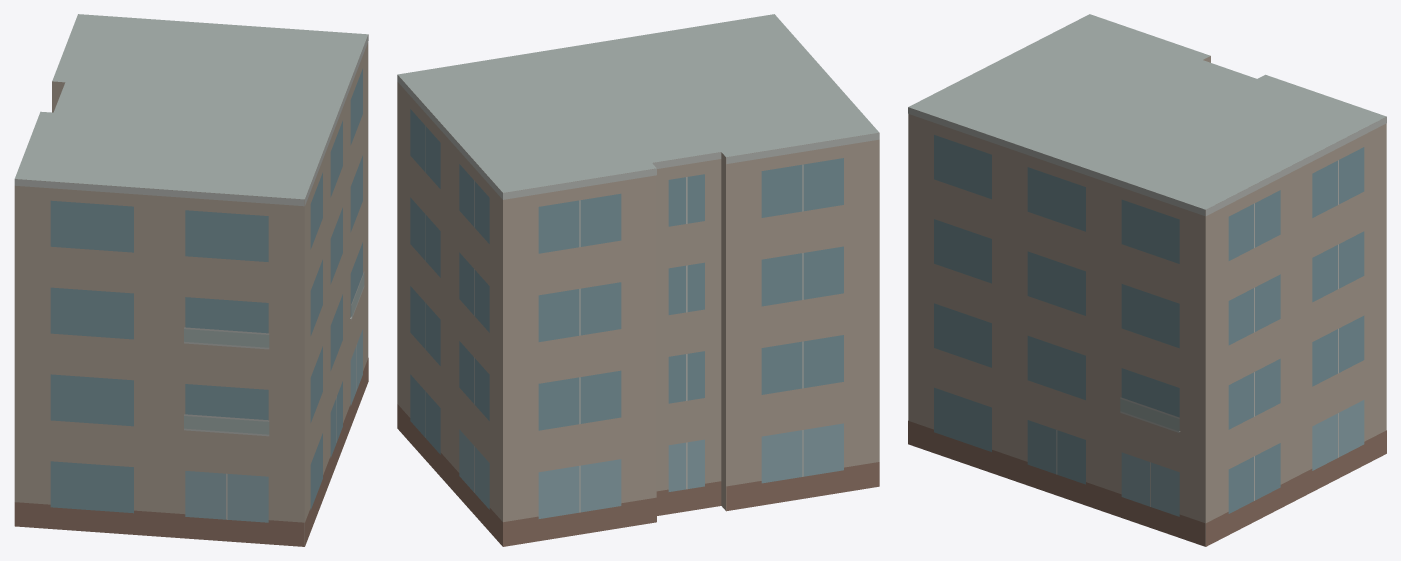
Rendered from survey-upis-32705504.glb.
3 views of the same model, side by side, from view 1: azimuth 30°, elevation 25°; view 2: azimuth 150°, elevation 25°; view 3: azimuth 270°, elevation 25° (orthographic). The views are drawn at different scales.
Visible parts, largest first — view 1: survey-upis-32705504.tmp; view 2: survey-upis-32705504.tmp; view 3: survey-upis-32705504.tmp.
Part boxes in pixels (x1,y1,x2,y2): survey-upis-32705504.tmp: (14,14,368,546); survey-upis-32705504.tmp: (397,14,879,546); survey-upis-32705504.tmp: (908,14,1386,546).
Size of the model in its own units: 15.45 by 12.4 by 15.97.
